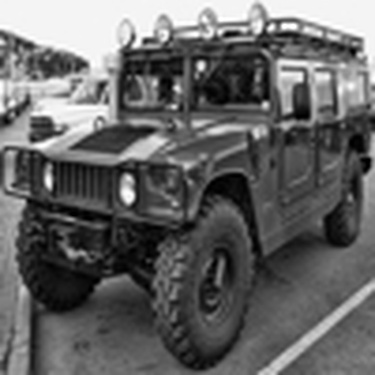car: (2, 1, 374, 371), (27, 69, 161, 141)
